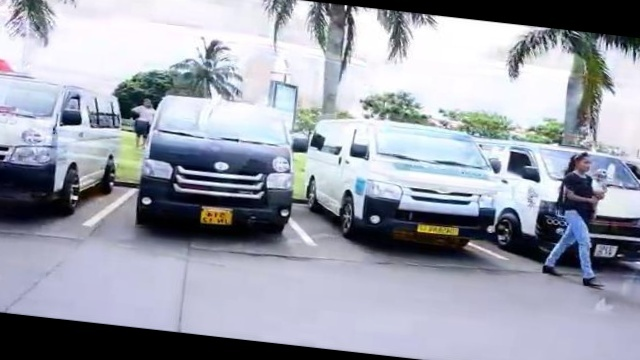van: (296, 115, 502, 260), (128, 89, 299, 243), (0, 73, 125, 226), (489, 144, 640, 267)
